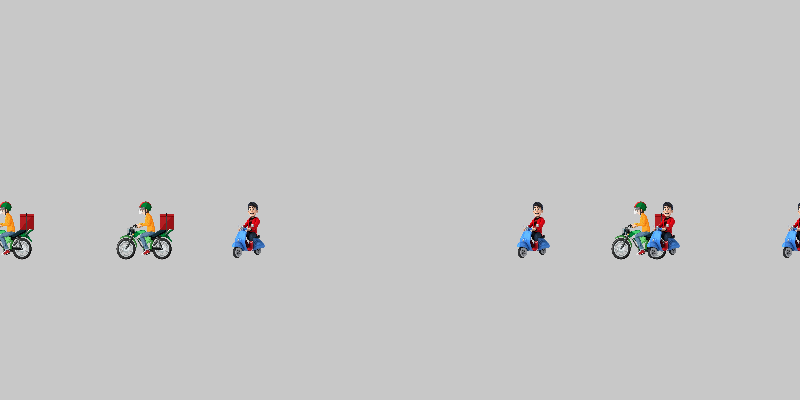helmet: (115, 200, 175, 260), (610, 200, 670, 260), (0, 200, 35, 260)
no_helmet: (220, 200, 280, 260), (505, 200, 565, 260), (635, 200, 695, 260), (770, 200, 800, 260)
